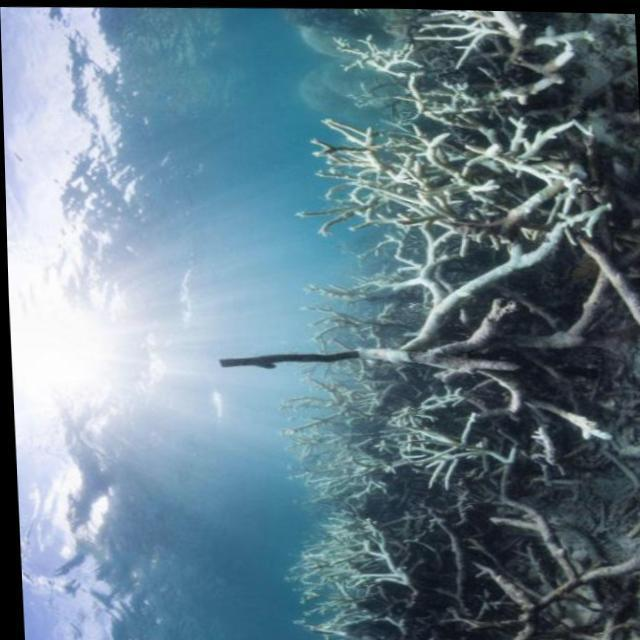Dead Coral: (267, 19, 640, 640)
